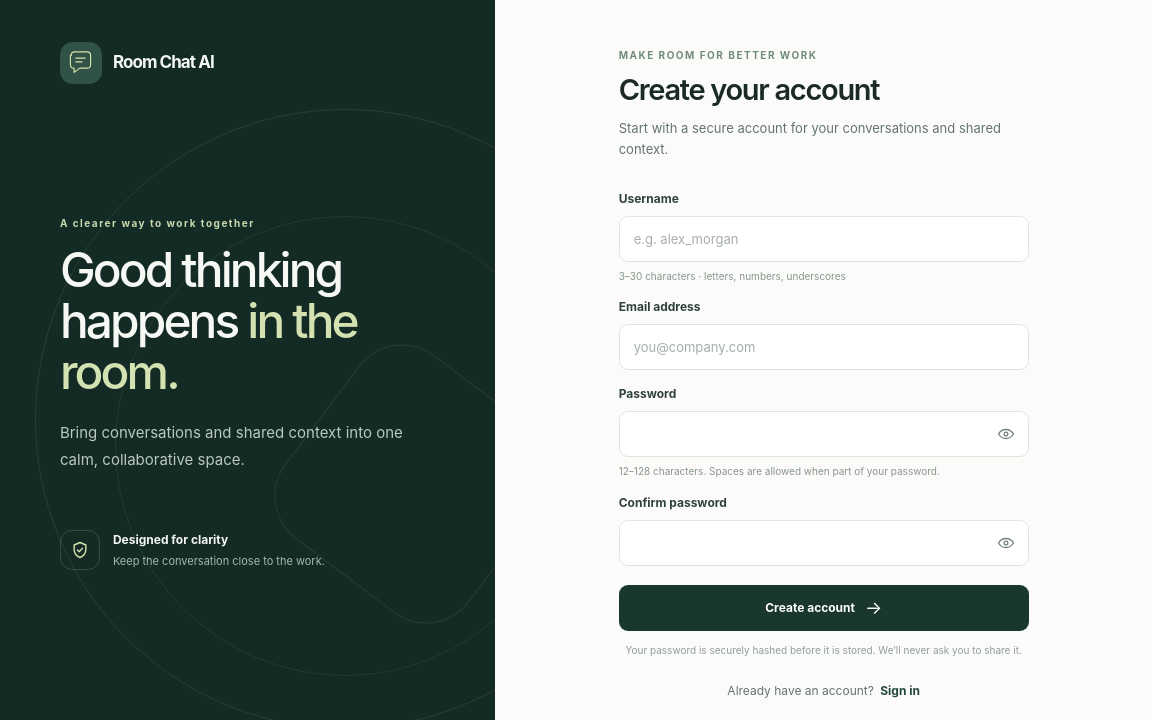
registration › validates passwords and confirmation before sending a request
Type "alex_user" into the field labelled "Username". click: (824, 239)
box: [619,216,1029,262]
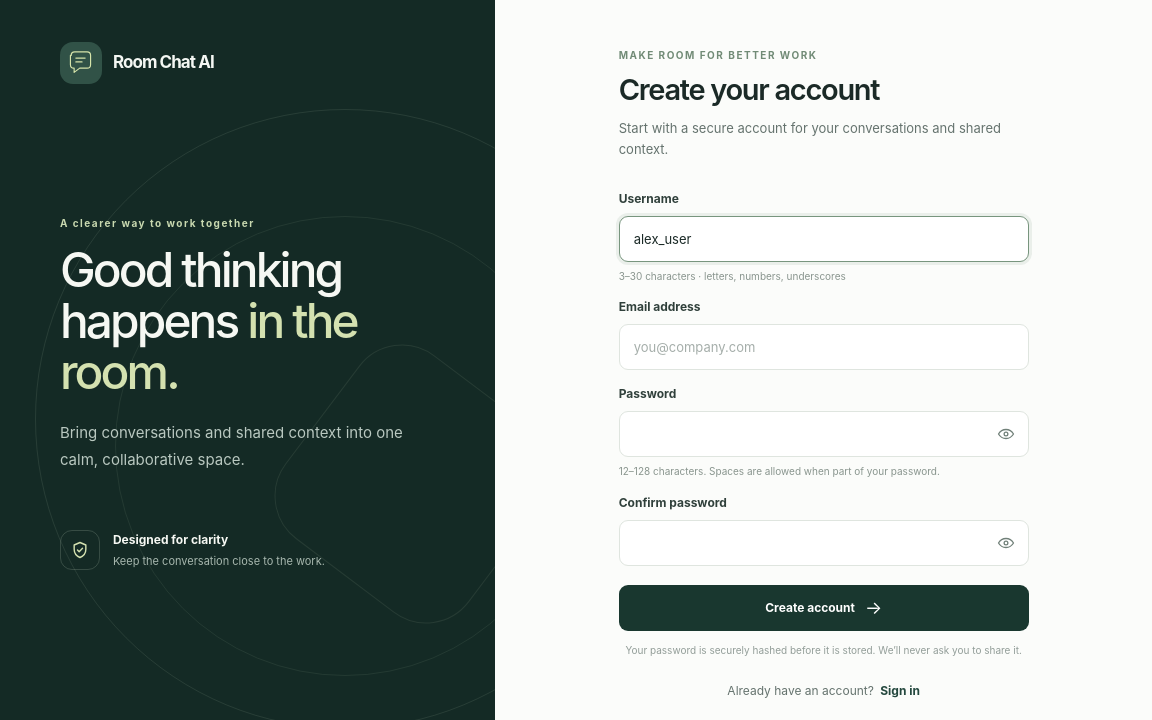
Type "alex@example.com" into the field labelled "Email address". click: (824, 347)
box: [619,324,1029,370]
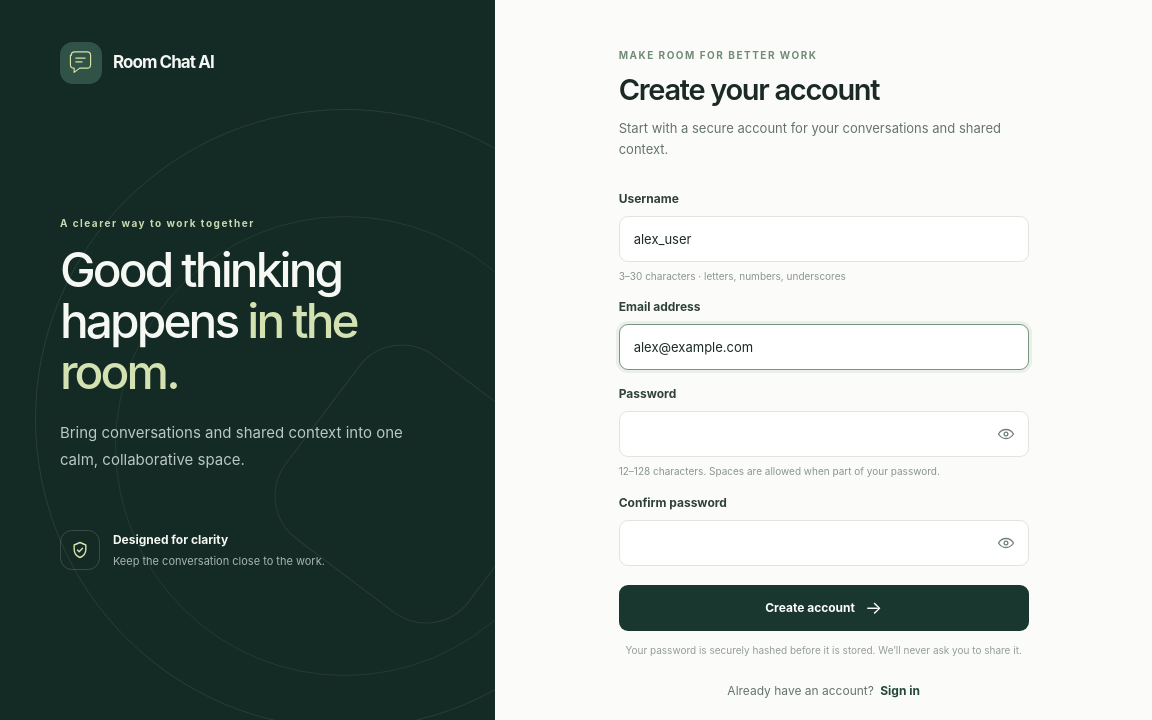
Type "short" into the password field labelled "Password". click: (824, 434)
box: [619,411,1029,457]
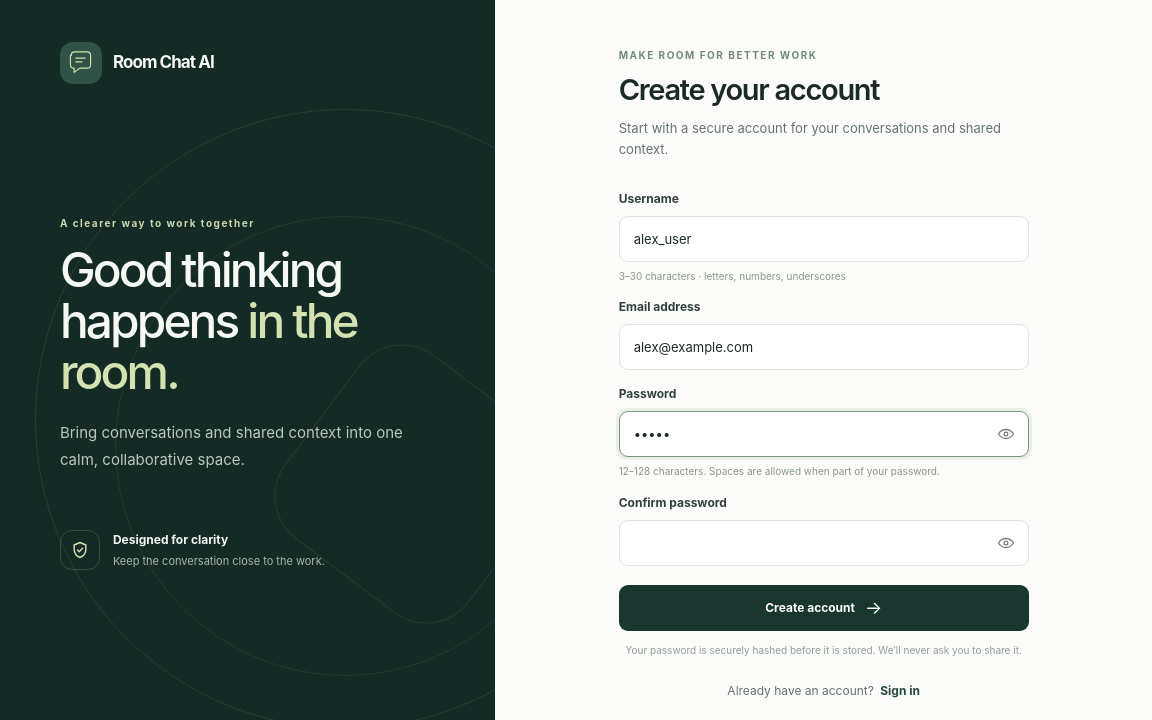
Type "different" into the password field labelled "Confirm password". click: (824, 543)
box: [619,520,1029,566]
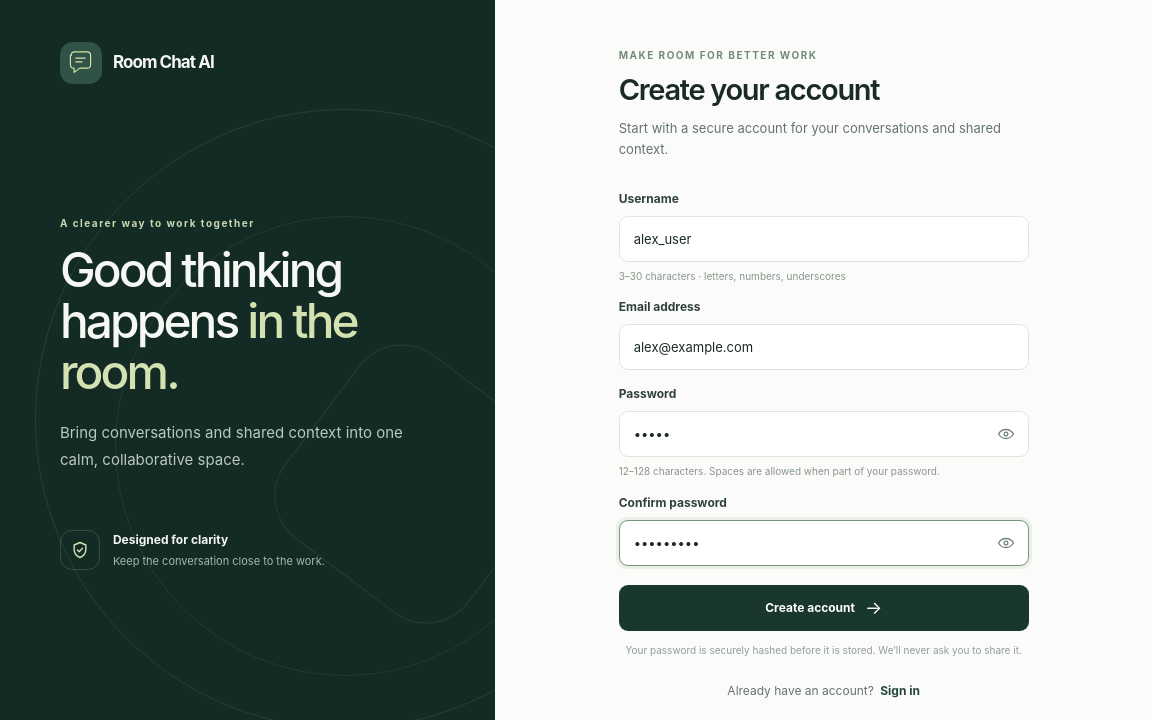
Click the button "Create account →". click: (824, 608)
box: [619,585,1029,631]
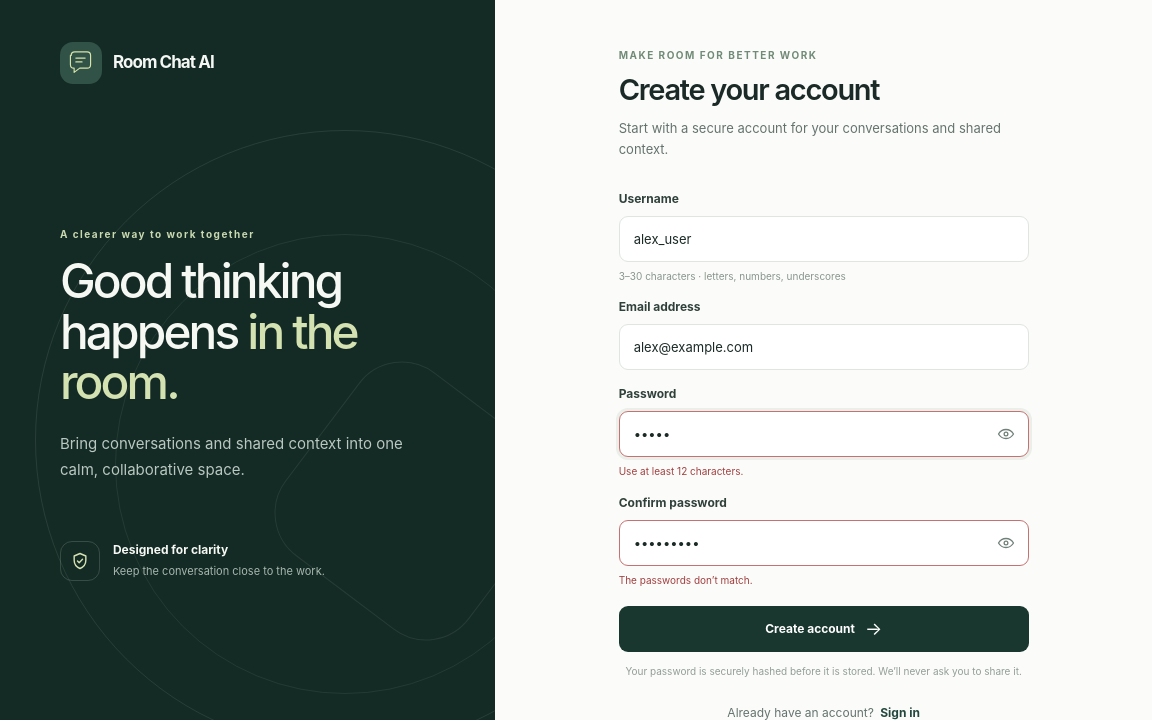
Check: the text "Use at least 12 characters." is shown, box [619,465,743,477]
Check: the text "The passwords don’t match." is shown, box [619,574,753,586]
